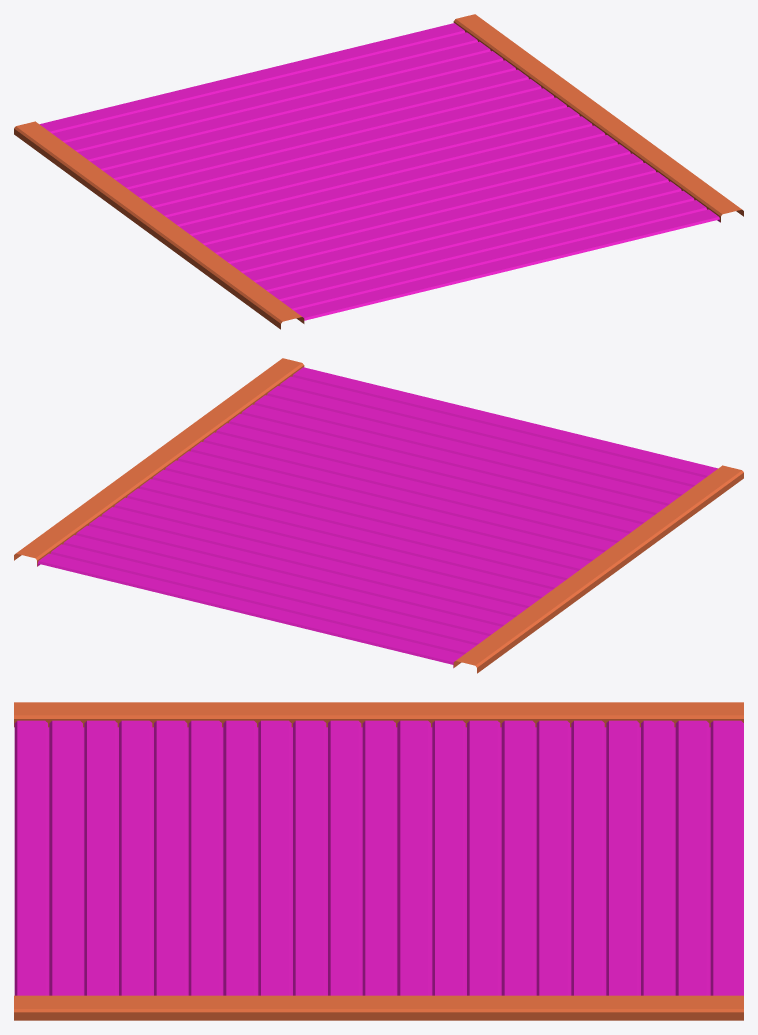
The model's file is Floor.fbx.
The picture shows the model from 3 angles, top to bottom: view 1: azimuth 30°, elevation 25°; view 2: azimuth 150°, elevation 25°; view 3: azimuth 270°, elevation 25°; orthographic projection. The views are drawn at different scales.
Parts seen in each view (by area): view 1: Floor; view 2: Floor; view 3: Floor.
Part boxes in pixels (x1=…): Floor: x1=14, y1=14, x2=743, y2=329; Floor: x1=14, y1=358, x2=743, y2=673; Floor: x1=14, y1=702, x2=743, y2=1020.
Bounding box in the file's own units: 1000 × 16.05 × 999.
